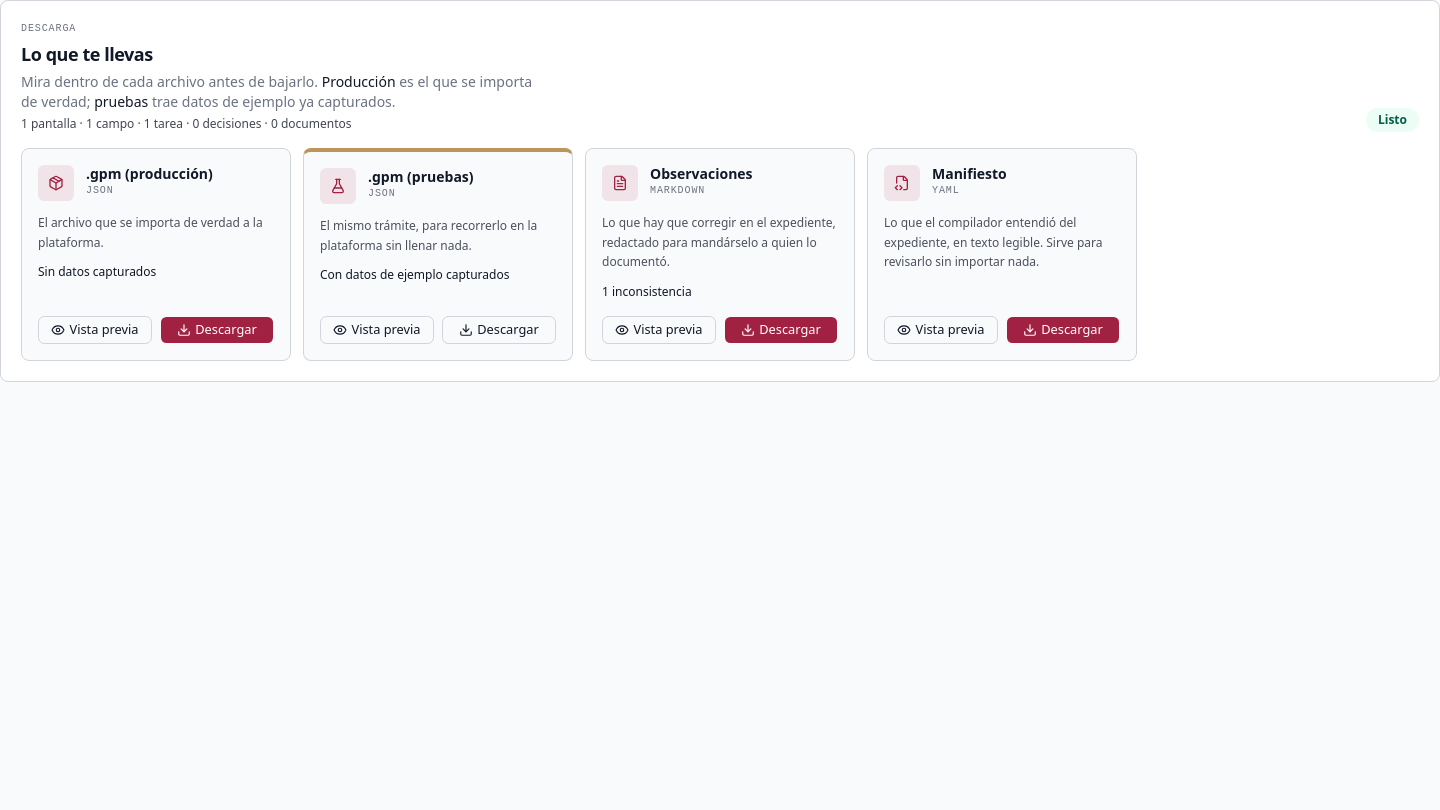
it: las observaciones llevan los avisos de la comparativa
Step 1. Click the button with aria-label "vista previa de Observaciones" → point(659, 330), box [602,316,716,344]
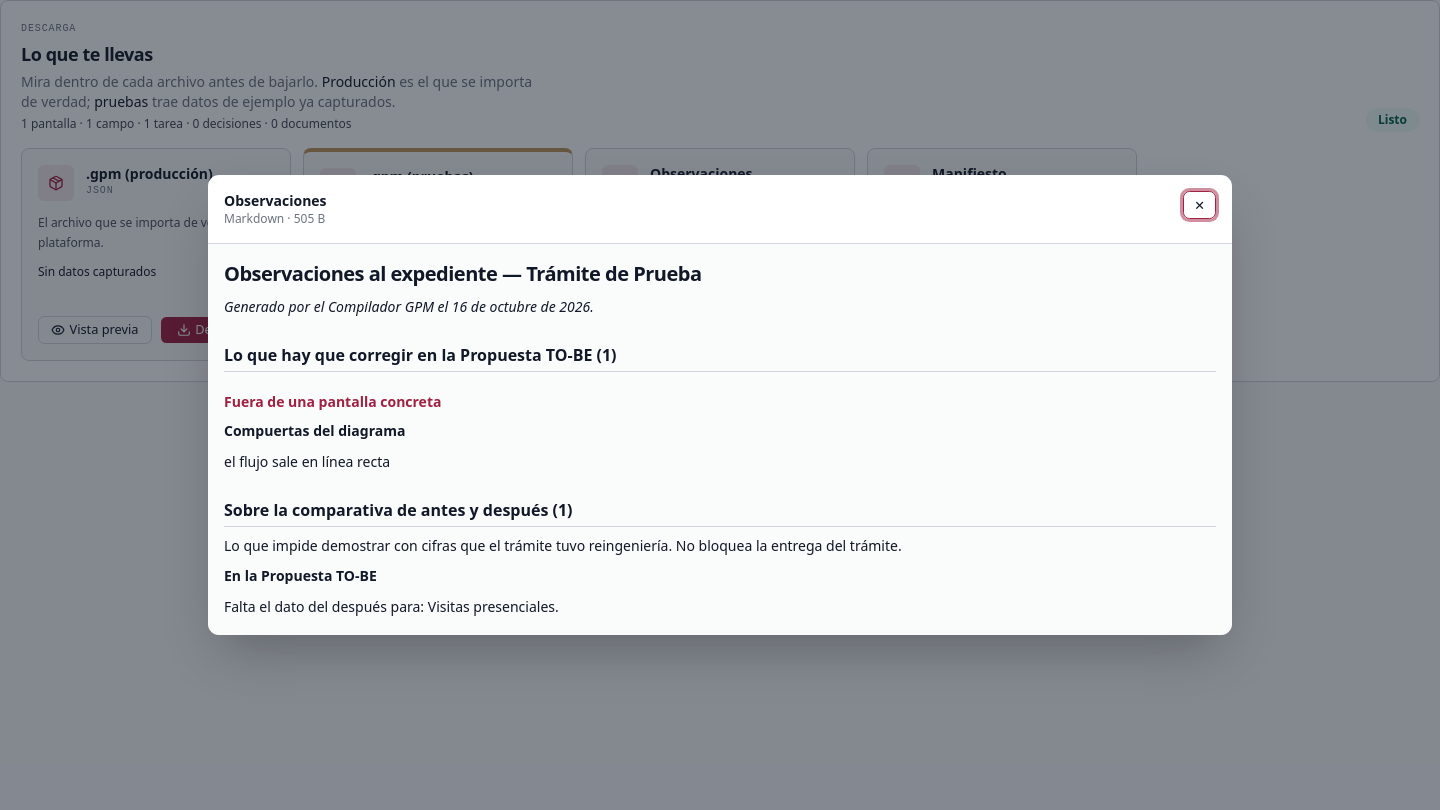
Result: the text "Falta el dato del después para: Visitas presenciales." is shown at [224,597,559,616]
